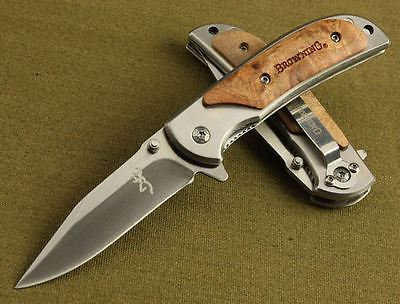knife: (11, 121, 198, 295)
